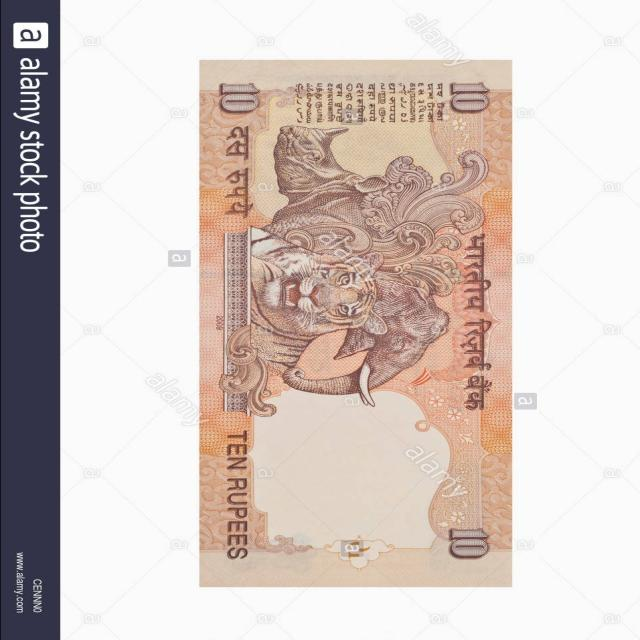10IndianRupees: (199, 58, 510, 584)
